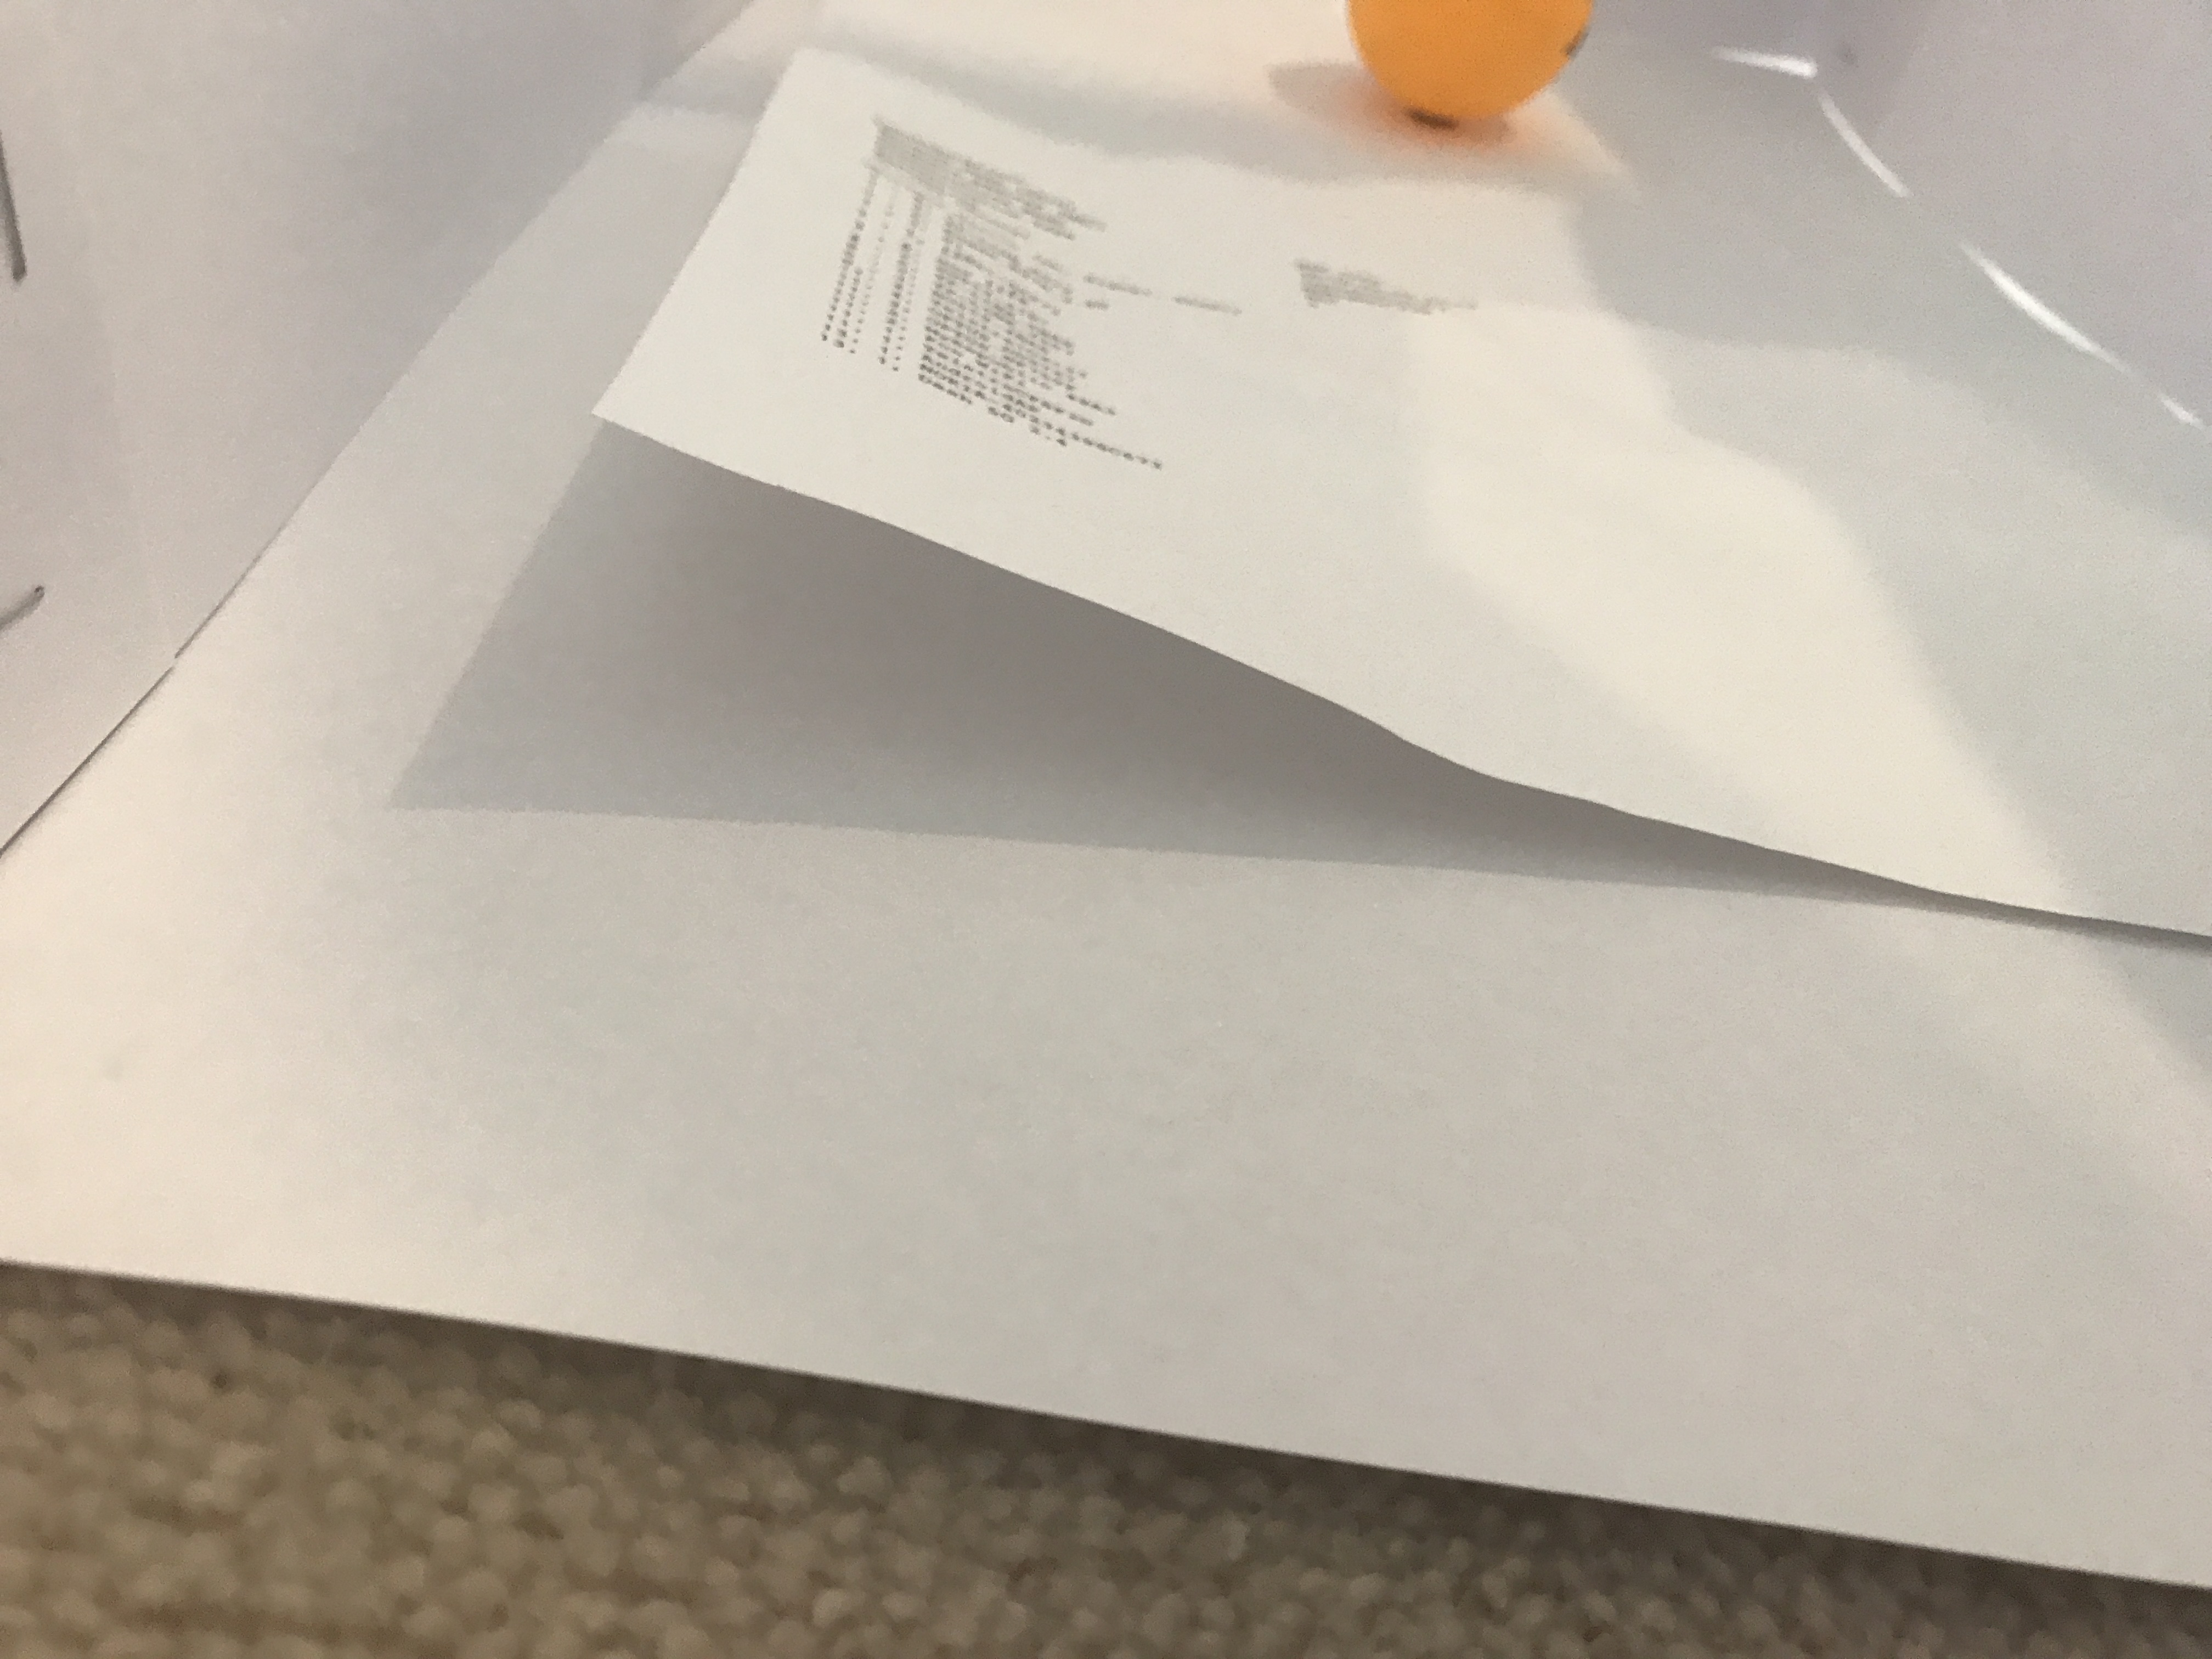pp: (1336, 0, 1613, 124)
